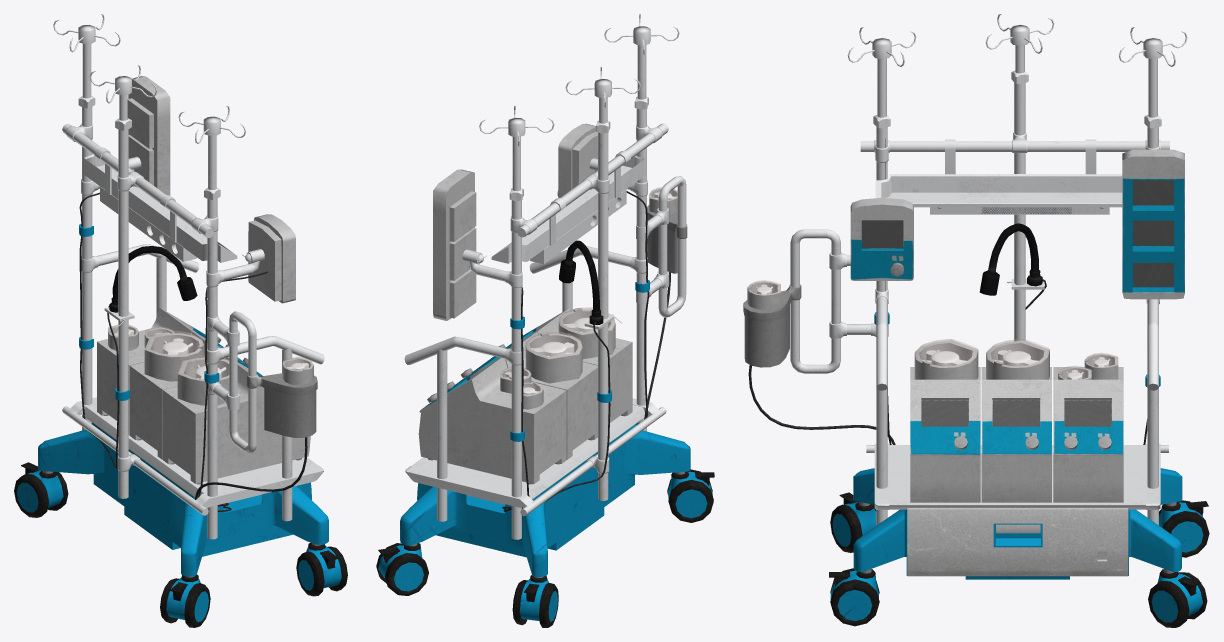
3 views of the same model, side by side, from view 1: azimuth 30°, elevation 25°; view 2: azimuth 150°, elevation 25°; view 3: azimuth 270°, elevation 25° (orthographic). The views are drawn at different scales.
Visible parts, largest first — view 1: Structure, Machines; view 2: Structure, Machines; view 3: Structure, Machines.
Part boxes in pixels (bbox=[...]): Structure: bbox=[14, 14, 347, 627]; Machines: bbox=[97, 76, 317, 483]; Structure: bbox=[376, 14, 714, 627]; Machines: bbox=[418, 123, 687, 483]; Structure: bbox=[748, 14, 1209, 627]; Machines: bbox=[743, 149, 1184, 502].
Size of the model in its own units: 72.94 by 181 by 145.
Materials: 3 (3 with a texture image).
